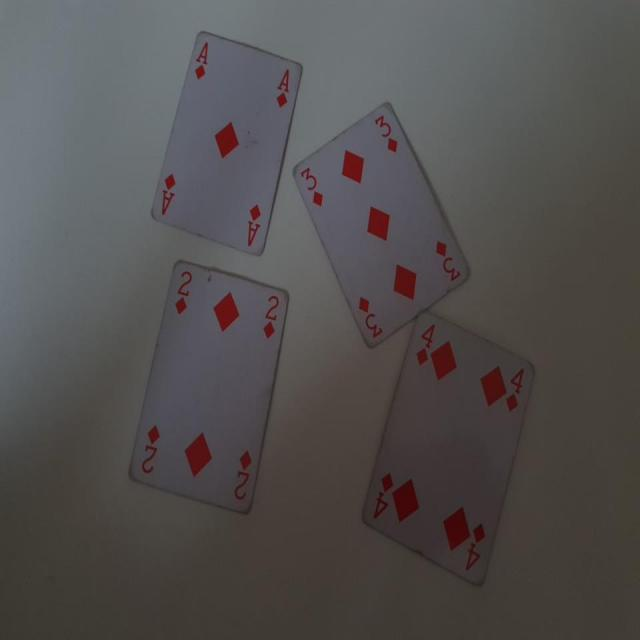2 Diamonds: (117, 261, 296, 519)
3 Diamonds: (291, 102, 472, 348)
4 Diamonds: (360, 312, 539, 596)
A Diamonds: (143, 15, 306, 264)
